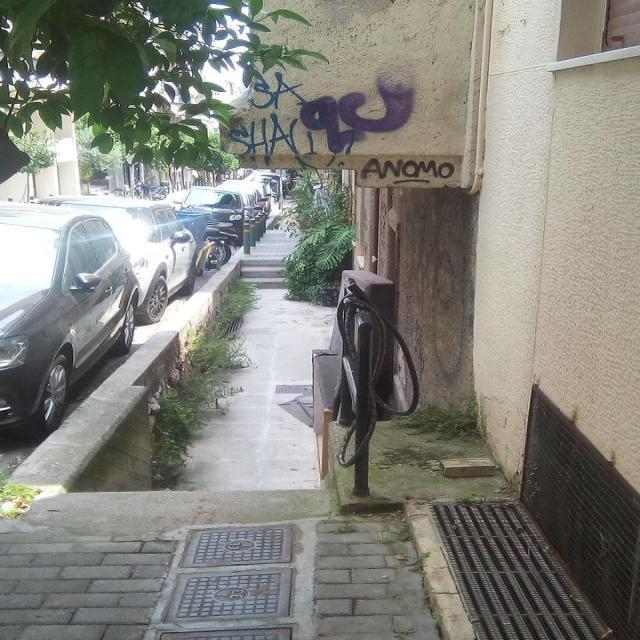nonspitting: (228, 70, 314, 168), (301, 84, 413, 152), (361, 155, 456, 184)
